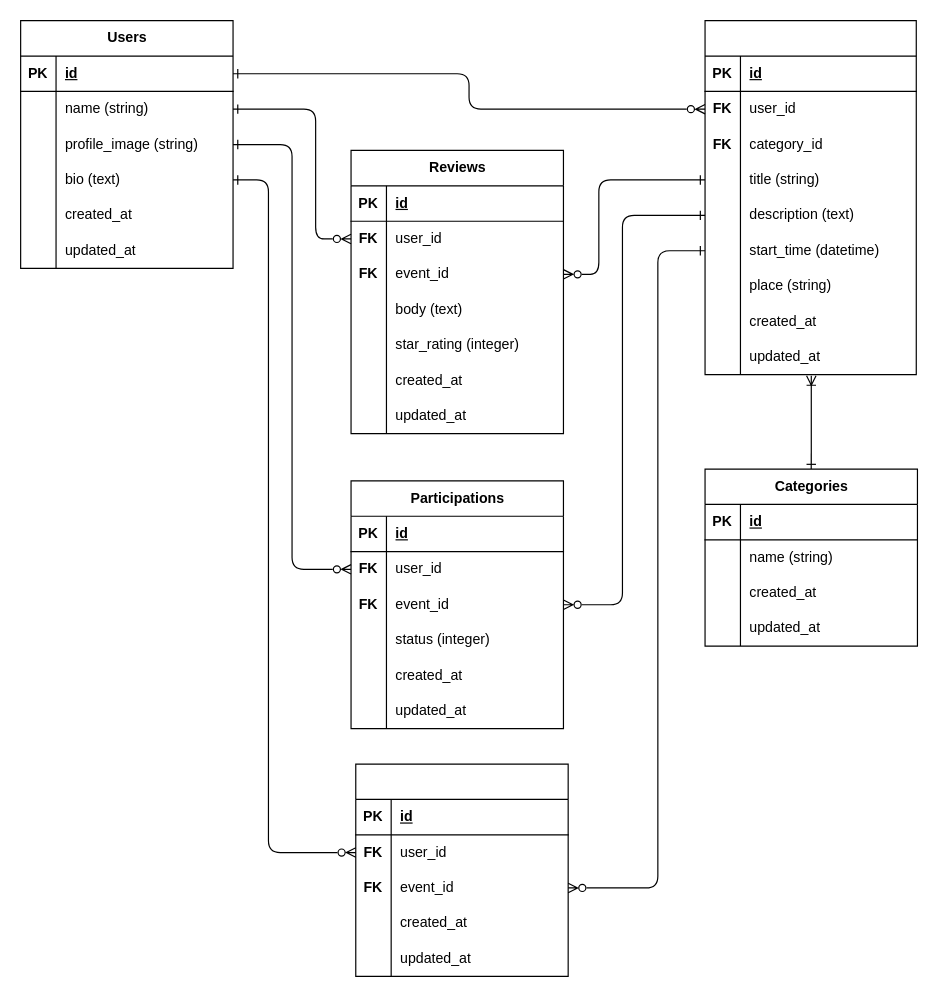
The diagram is 938 pixels wide and 997 high, and some of its shapes have lost their labels. The box of each missing label's shape, as (x1, y1, x2, y2) in pixels:
Events: (704, 19, 916, 375)
Favorites: (355, 763, 568, 976)
